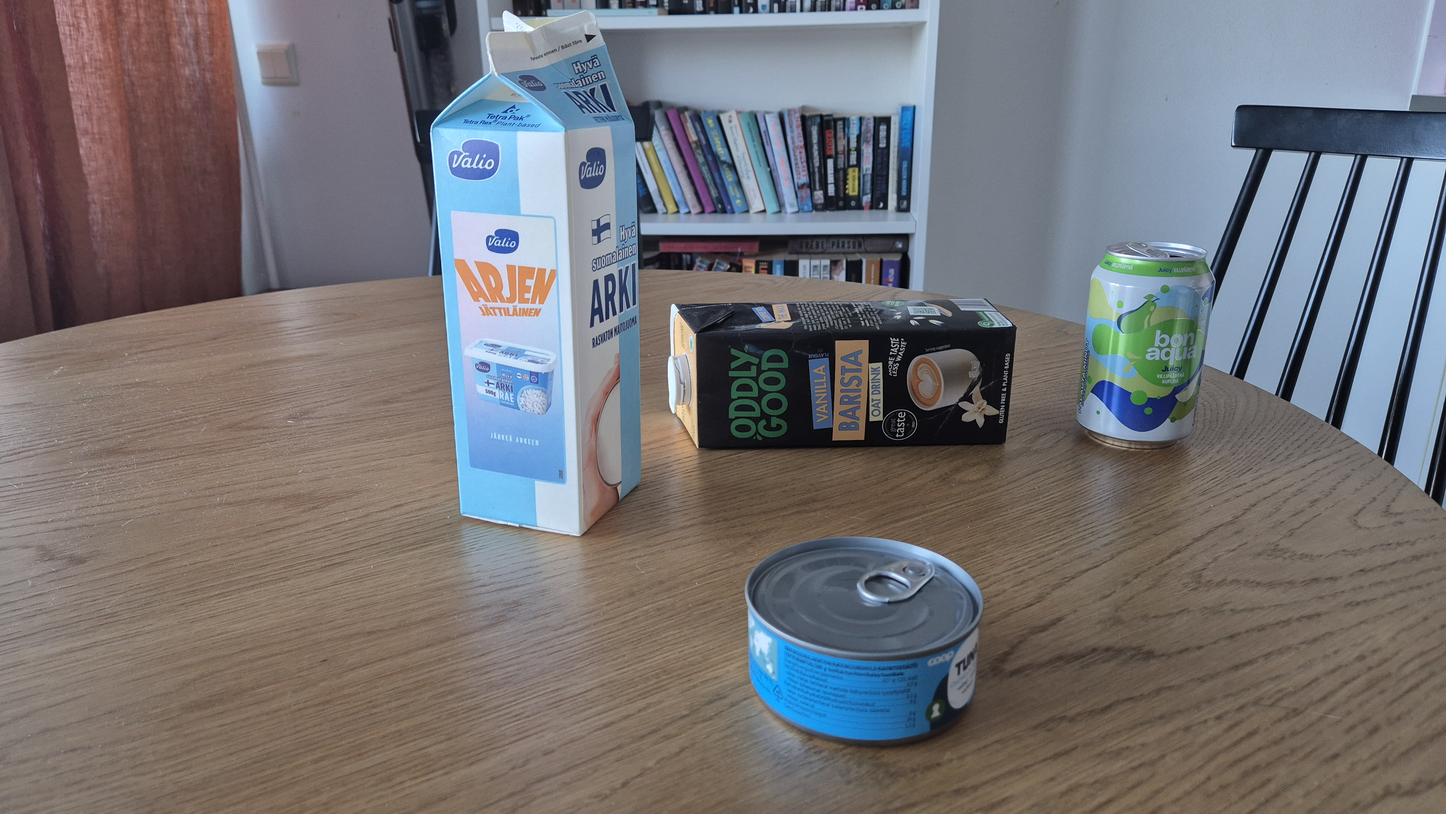Dryckeskartong: (430, 11, 643, 539), (668, 298, 1016, 450)
Konservburk: (746, 537, 983, 747)
Pantburk: (1076, 241, 1215, 450)
